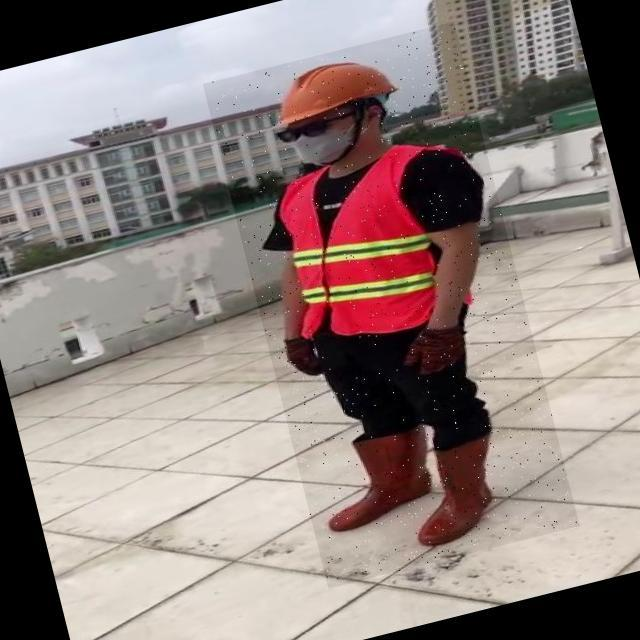Gloves: (397, 319, 472, 381), (281, 332, 323, 383)
Helmet: (261, 47, 396, 130)
Human: (203, 22, 580, 589)
Safety Boot: (311, 424, 442, 534), (398, 434, 512, 549)
Safety Vest: (267, 140, 470, 349)
